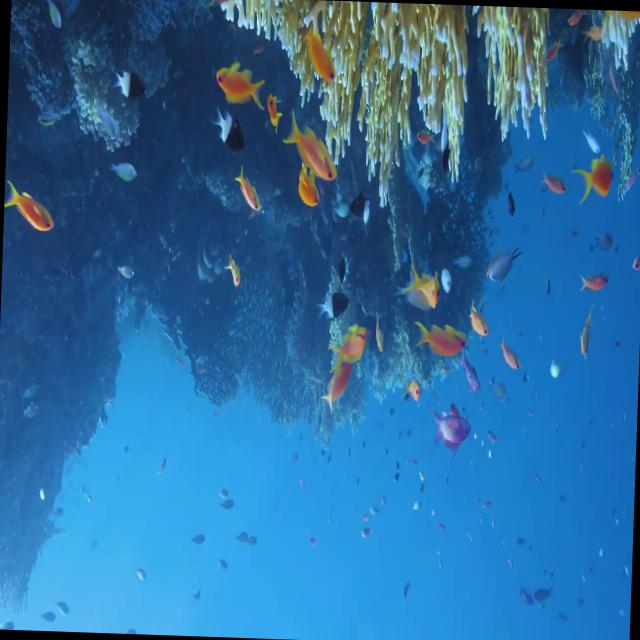fish: (281, 104, 341, 192), (390, 242, 448, 322), (210, 51, 270, 118), (2, 178, 60, 246), (424, 394, 476, 462), (562, 152, 613, 213), (314, 360, 357, 424), (409, 319, 471, 362), (482, 236, 524, 296), (328, 322, 372, 374), (207, 109, 247, 164), (312, 282, 354, 334), (106, 62, 148, 109), (288, 160, 324, 214), (234, 168, 268, 222), (530, 161, 568, 208), (341, 176, 372, 227), (466, 297, 496, 345), (437, 121, 458, 187), (574, 266, 611, 300), (573, 307, 595, 360), (496, 339, 524, 380), (222, 254, 243, 298)
